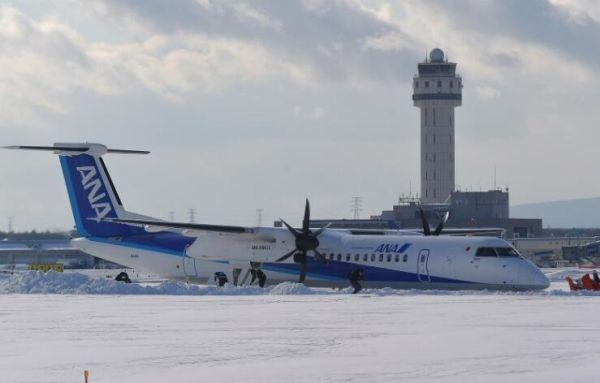airplane: (1, 134, 555, 295)
